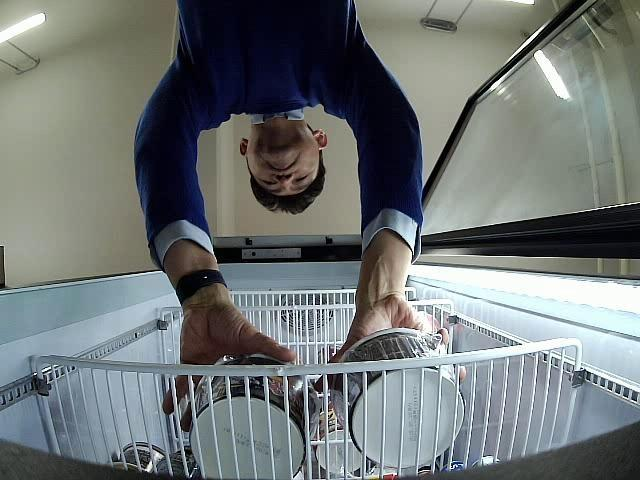07_buldak_L: (332, 328, 465, 468), (190, 356, 320, 480)
